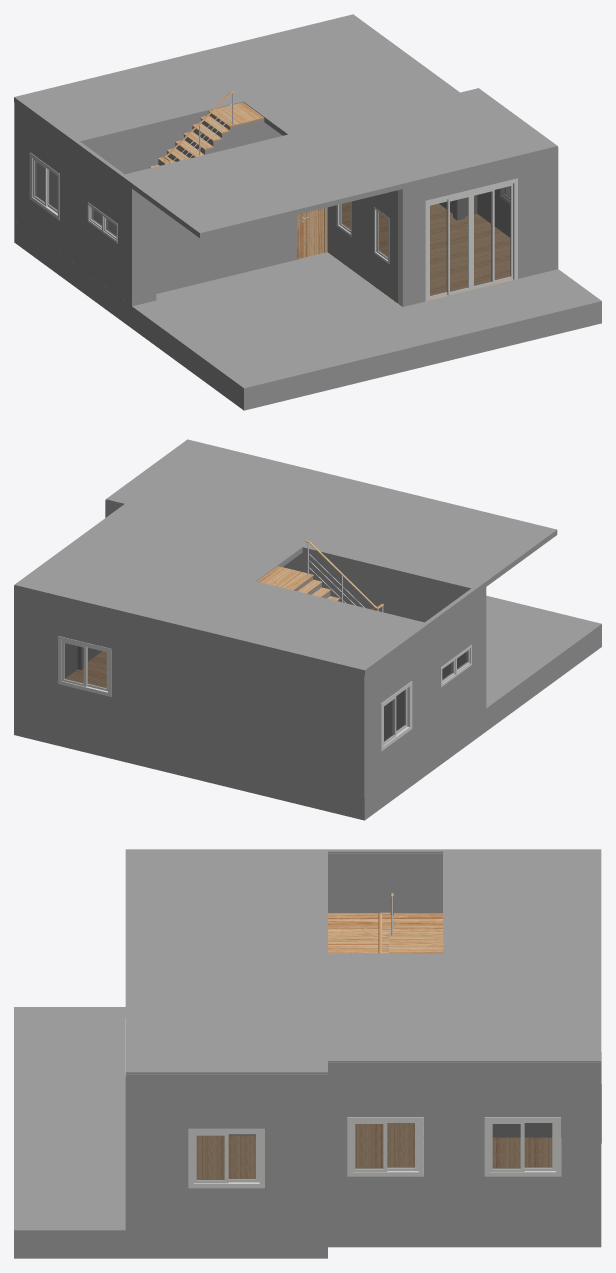
The model's file is HomeStay.fbx.
3 views of the same model, one above another, from view 1: azimuth 30°, elevation 25°; view 2: azimuth 150°, elevation 25°; view 3: azimuth 270°, elevation 25° (orthographic). The views are drawn at different scales.
Parts seen in each view (by area): view 1: pCube200, pCube272, pCube136, pCube216, pCube249, pCube253, pCube265, pCube99, pCube165, pCube164, pCube163, pCube166 (+10 smaller); view 2: pCube200, pCube62, pCube272, pCube136, pCube249, pCube92, pCube17, pCube14, pCube241, pCube196, pCube238, pCube242 (+1 smaller); view 3: pCube200, pCube272, pCube55, pCube41, pCube136, pCube189, pCube223, pCube228, pCube233, pCube154, pCube231, pCube236 (+11 smaller).
Boxes of the visible parts, left/top/right/bottom form: pCube200: left=14, top=14, right=557, bottom=238; pCube272: left=14, top=202, right=601, bottom=410; pCube136: left=16, top=104, right=136, bottom=306; pCube216: left=406, top=147, right=558, bottom=305; pCube249: left=156, top=207, right=327, bottom=293; pCube253: left=327, top=188, right=406, bottom=306; pCube265: left=81, top=111, right=278, bottom=235; pCube99: left=136, top=192, right=156, bottom=305; pCube165: left=474, top=191, right=492, bottom=285; pCube164: left=450, top=197, right=467, bottom=291; pCube163: left=430, top=201, right=446, bottom=295; pCube166: left=494, top=186, right=510, bottom=280; pCube200: left=14, top=439, right=557, bottom=675; pCube62: left=18, top=591, right=366, bottom=797; pCube272: left=14, top=595, right=601, bottom=820; pCube136: left=366, top=587, right=486, bottom=795; pCube249: left=283, top=552, right=450, bottom=679; pCube92: left=339, top=669, right=347, bottom=792; pCube17: left=148, top=623, right=155, bottom=746; pCube14: left=14, top=586, right=21, bottom=713; pCube241: left=58, top=636, right=111, bottom=696; pCube196: left=257, top=566, right=313, bottom=590; pCube238: left=64, top=643, right=83, bottom=683; pCube242: left=87, top=648, right=106, bottom=688; pCube200: left=125, top=849, right=601, bottom=1073; pCube272: left=14, top=1007, right=601, bottom=1258; pCube55: left=328, top=1062, right=595, bottom=1218; pCube41: left=131, top=1074, right=322, bottom=1230; pCube136: left=328, top=853, right=442, bottom=913; pCube189: left=328, top=913, right=442, bottom=953; pCube223: left=188, top=1128, right=264, bottom=1188; pCube228: left=347, top=1117, right=423, bottom=1176; pCube233: left=484, top=1117, right=560, bottom=1176; pCube154: left=196, top=1135, right=224, bottom=1180; pCube231: left=355, top=1124, right=383, bottom=1168; pCube236: left=492, top=1124, right=520, bottom=1168.
Bounding box in the file's own units: 9.67 × 4.57 × 10.75.
9 materials, 3 textured.
